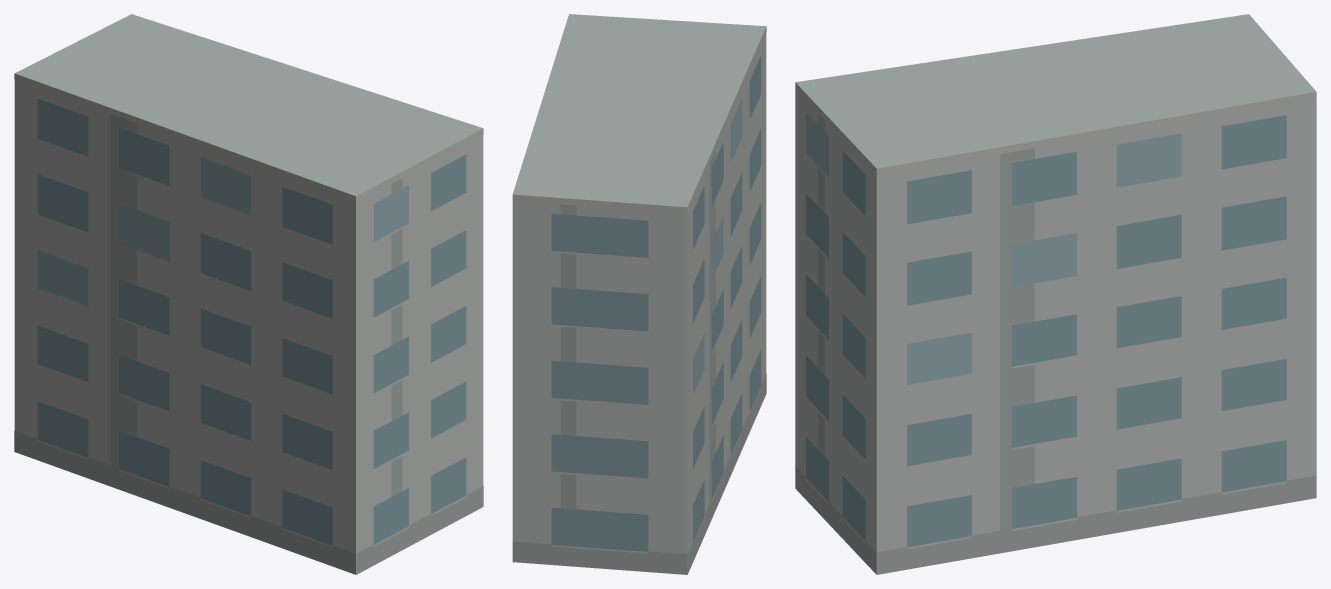
File: survey-upis-32975480.glb
The picture shows the model from 3 angles, left to right: view 1: azimuth 30°, elevation 25°; view 2: azimuth 150°, elevation 25°; view 3: azimuth 270°, elevation 25°; orthographic projection. The views are drawn at different scales.
Visible parts, largest first — view 1: survey-upis-32975480.tmp; view 2: survey-upis-32975480.tmp; view 3: survey-upis-32975480.tmp.
Part boxes in pixels (x1,y1,x2,y2): survey-upis-32975480.tmp: (14,14,483,574); survey-upis-32975480.tmp: (512,14,766,574); survey-upis-32975480.tmp: (795,14,1316,574).
Size of the model in its own units: 11.77 by 14.4 by 16.76.
